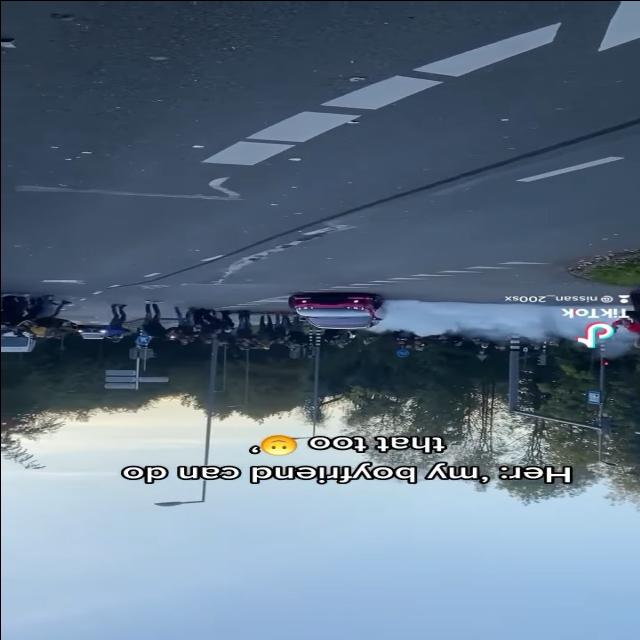car: (286, 286, 386, 332)
